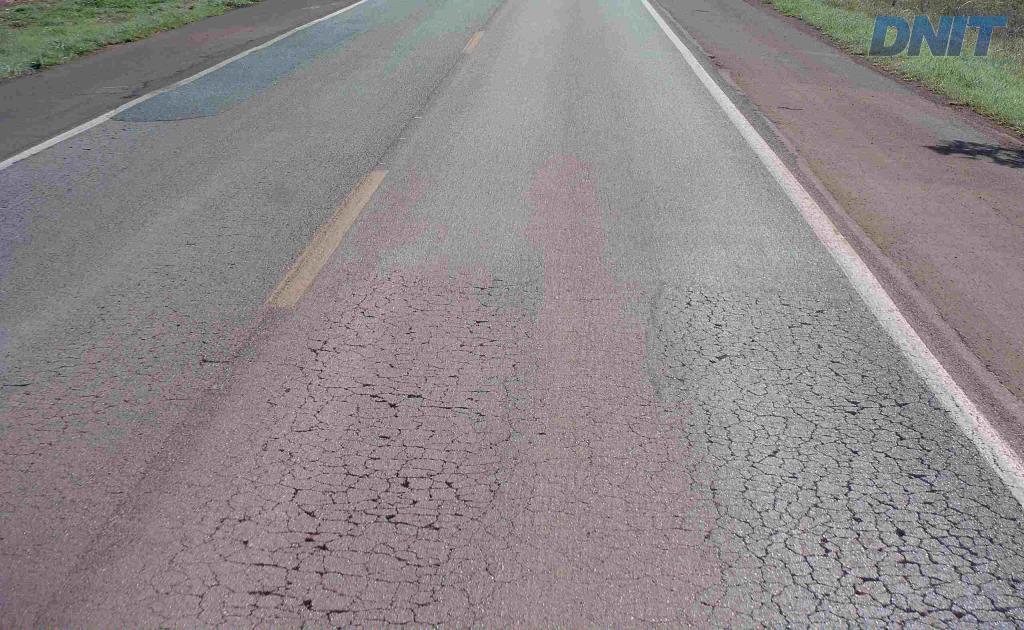crack: (851, 364, 1023, 629), (863, 500, 939, 577), (363, 541, 455, 580), (393, 439, 444, 501), (247, 561, 292, 598)
